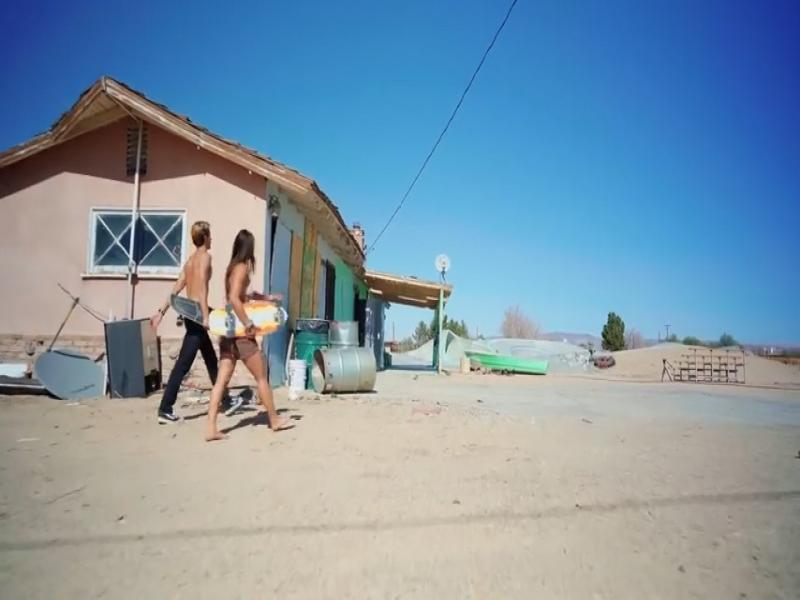person: (206, 229, 292, 441), (159, 221, 217, 423)
skate: (205, 295, 294, 344), (168, 288, 207, 332)
